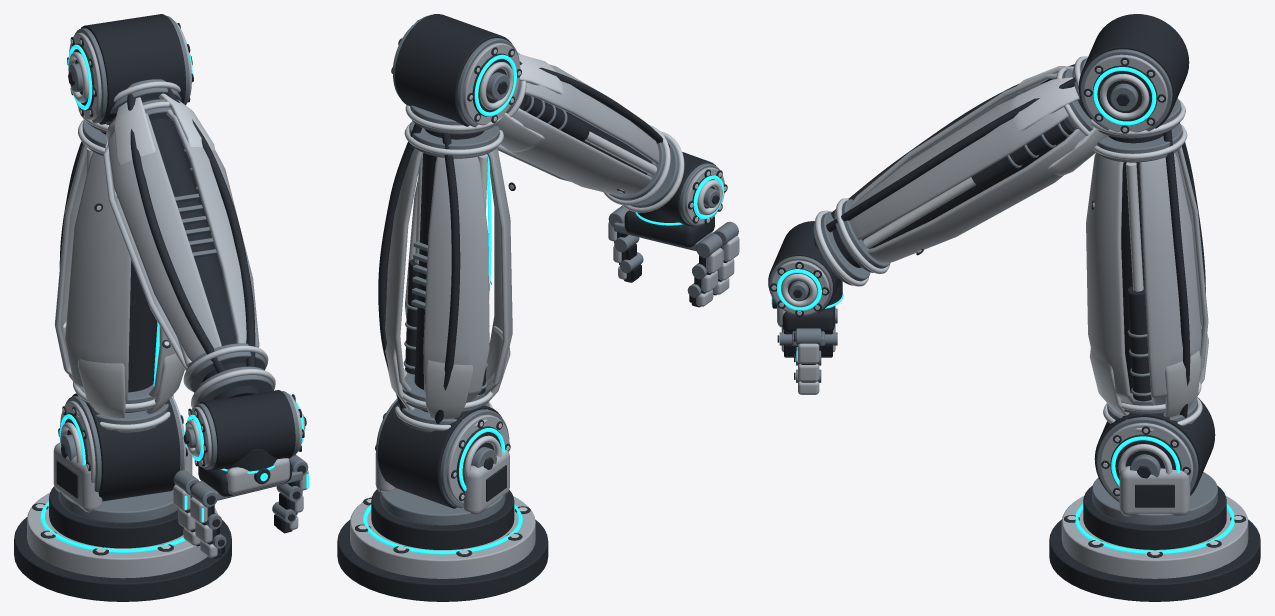
File: nexus-arm.glb
3 views of the same model, side by side, from view 1: azimuth 30°, elevation 25°; view 2: azimuth 150°, elevation 25°; view 3: azimuth 270°, elevation 25° (orthographic). The views are drawn at different scales.
Parts seen in each view (by area): view 1: Sculpted armour 2, Sculpted armour 1.001, Mounting plate, Joint housing.001, Joint housing, Joint housing.002, Base skirt, Internal spine.001, Sculpted armour 0.001, Turntable, Internal spine, Sculpted armour 1 (+34 smaller); view 2: Sculpted armour 1, Joint housing.001, Mounting plate, Base skirt, Sculpted armour 2.001, Joint housing, Sculpted armour 2, Turntable, Sculpted armour 0, Sculpted armour 1.001, Yaw bearing, Braided tendon (+32 smaller); view 3: Sculpted armour 0, Sculpted armour 0.001, Sculpted armour 3, Base skirt, Mounting plate, Sculpted armour 3.001, Joint housing.001, Turntable, Yaw bearing, Braided tendon.001, Braided tendon.003, Shoulder support.001 (+31 smaller).
Boxes of the visible parts, x1,y1,x2,y2 form: Sculpted armour 2: [65, 152, 131, 400]; Sculpted armour 1.001: [108, 113, 221, 361]; Mounting plate: [14, 517, 231, 601]; Joint housing.001: [81, 14, 185, 124]; Joint housing: [72, 393, 180, 501]; Joint housing.002: [199, 390, 295, 470]; Base skirt: [27, 493, 217, 578]; Internal spine.001: [142, 98, 261, 399]; Sculpted armour 0.001: [166, 109, 259, 347]; Turntable: [49, 486, 183, 548]; Internal spine: [101, 131, 156, 412]; Sculpted armour 1: [54, 143, 86, 377]; Sculpted armour 1: [423, 156, 489, 402]; Joint housing.001: [395, 14, 512, 126]; Mounting plate: [337, 519, 548, 601]; Base skirt: [350, 496, 535, 578]; Sculpted armour 2.001: [511, 108, 651, 196]; Joint housing: [378, 400, 501, 508]; Sculpted armour 2: [484, 147, 512, 394]; Turntable: [371, 489, 514, 549]; Sculpted armour 0: [385, 148, 423, 391]; Sculpted armour 1.001: [525, 64, 659, 164]; Yaw bearing: [380, 488, 505, 525]; Braided tendon: [434, 133, 460, 424]; Sculpted armour 0: [1139, 152, 1201, 404]; Sculpted armour 0.001: [848, 97, 1068, 240]; Sculpted armour 3: [1086, 152, 1134, 404]; Base skirt: [1061, 496, 1248, 578]; Mounting plate: [1049, 519, 1260, 601]; Sculpted armour 3.001: [867, 129, 1084, 262]; Joint housing.001: [1078, 14, 1189, 128]; Turntable: [1083, 485, 1226, 549]; Yaw bearing: [1092, 472, 1217, 525]; Braided tendon.001: [1163, 130, 1190, 418]; Braided tendon.003: [826, 77, 1075, 232]; Shoulder support.001: [1119, 466, 1190, 516].
Bounding box in the file's own units: 1.87 × 4.61 × 3.91.
